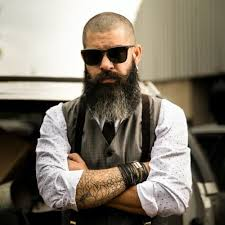b.y: (87, 71, 138, 118)
